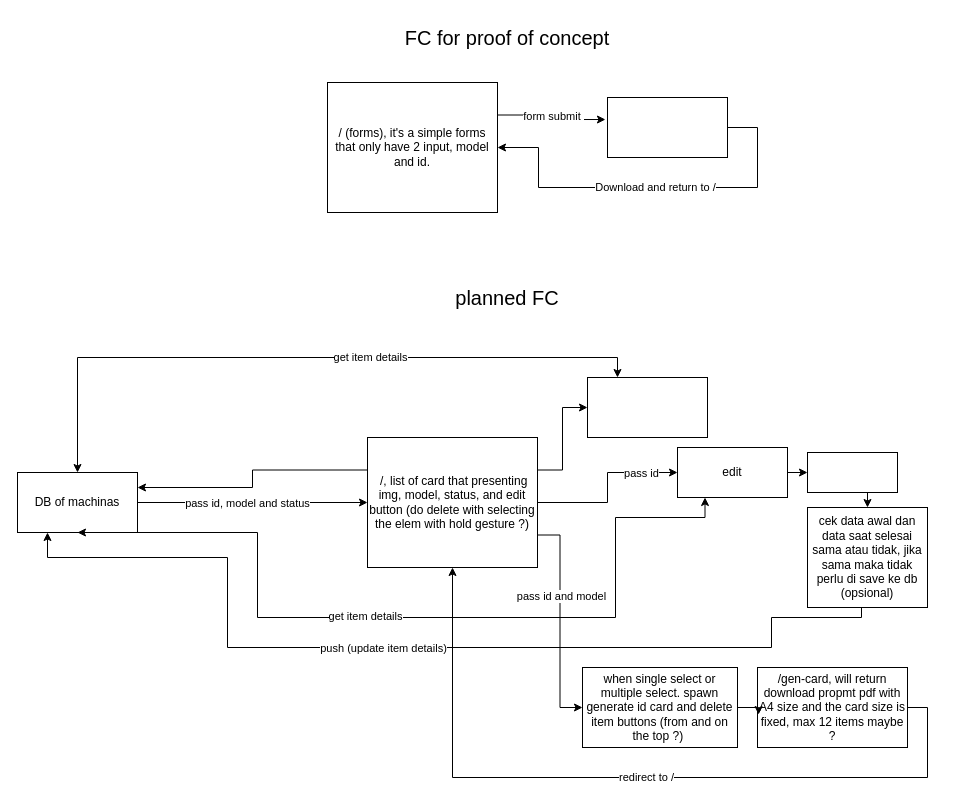
Some shapes in this 953 by 803 pixel diagram are drawn without their labels. Each missing label, with the centre of its shape:
"all items can be click to view the details" belongs at (647,407).
"done edit" belongs at (852,472).
"generate id card" belongs at (667,127).
